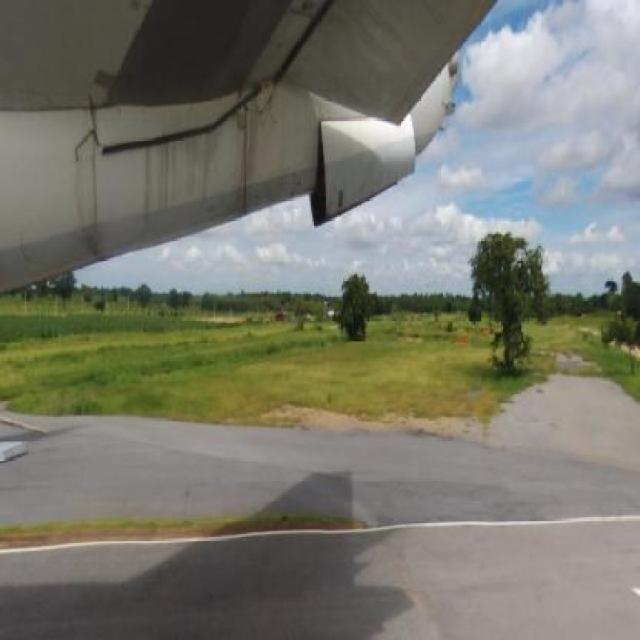Rust: (127, 104, 236, 236), (68, 118, 112, 264), (237, 88, 280, 212), (9, 214, 45, 281)
